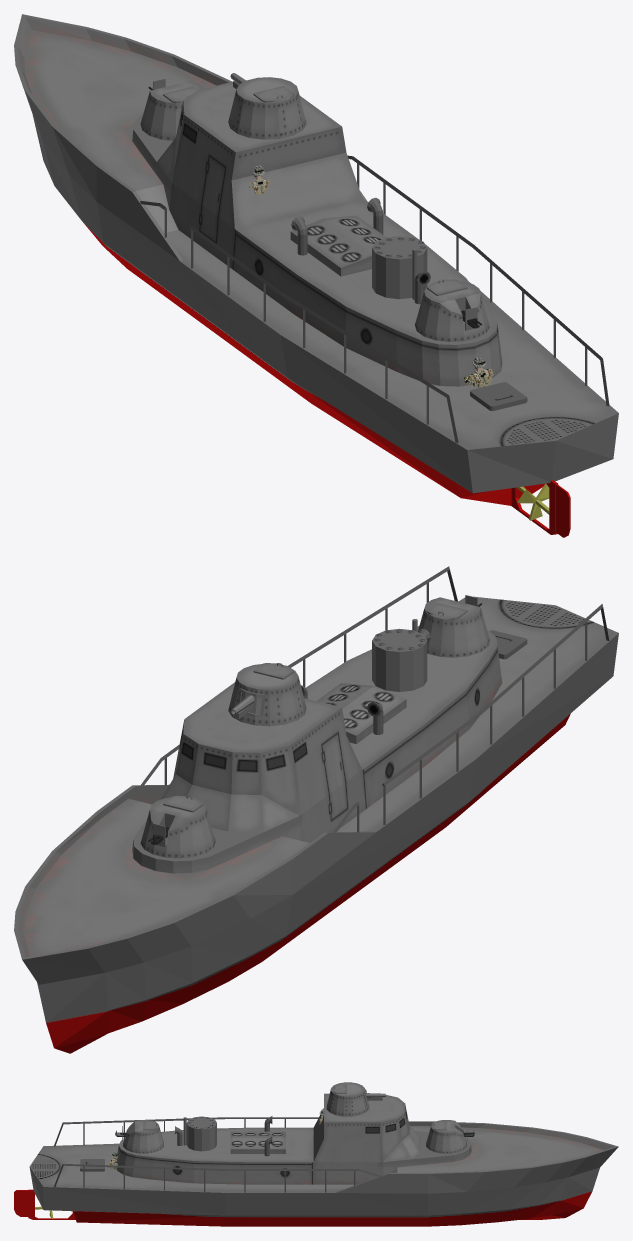
File: soukoutei.glb
The picture shows the model from 3 angles, top to bottom: view 1: azimuth 30°, elevation 25°; view 2: azimuth 150°, elevation 25°; view 3: azimuth 270°, elevation 25°; orthographic projection. The views are drawn at different scales.
Visible parts, largest first — view 1: 00_chassis_soukoutei_chassis.mesh, 05_turret_soukoutei_cannon_turret.mesh, 07_turret_soukoutei_mg_turret.mesh, 06_turret_soukoutei_mg_turret.mesh; view 2: 00_chassis_soukoutei_chassis.mesh, 05_turret_soukoutei_cannon_turret.mesh, 06_turret_soukoutei_mg_turret.mesh, 07_turret_soukoutei_mg_turret.mesh; view 3: 00_chassis_soukoutei_chassis.mesh, 05_turret_soukoutei_cannon_turret.mesh, 07_turret_soukoutei_mg_turret.mesh, 06_turret_soukoutei_mg_turret.mesh.
Boxes of the visible parts, x1,y1,x2,y2 form: 00_chassis_soukoutei_chassis.mesh: (14,14,618,537); 05_turret_soukoutei_cannon_turret.mesh: (228,73,306,139); 07_turret_soukoutei_mg_turret.mesh: (415,279,489,341); 06_turret_soukoutei_mg_turret.mesh: (140,78,204,140); 00_chassis_soukoutei_chassis.mesh: (14,566,618,1053); 05_turret_soukoutei_cannon_turret.mesh: (228,663,306,726); 06_turret_soukoutei_mg_turret.mesh: (140,795,215,858); 07_turret_soukoutei_mg_turret.mesh: (418,595,489,657); 00_chassis_soukoutei_chassis.mesh: (14,1093,618,1226); 05_turret_soukoutei_cannon_turret.mesh: (326,1082,385,1116); 07_turret_soukoutei_mg_turret.mesh: (115,1120,163,1153); 06_turret_soukoutei_mg_turret.mesh: (426,1120,474,1153).
Bounding box in the file's own units: 4.37 × 5.13 × 21.17.
37 materials, 1 textured.
